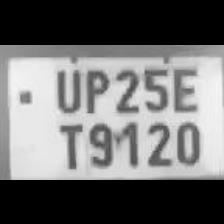0: (171, 116, 203, 164)
1: (114, 118, 142, 166)
2: (108, 62, 140, 114), (140, 116, 172, 166)
5: (138, 62, 170, 110)
9: (82, 118, 114, 166)
E: (168, 62, 200, 110)
P: (80, 62, 110, 114)
T: (50, 118, 84, 170)
U: (50, 64, 82, 112)
